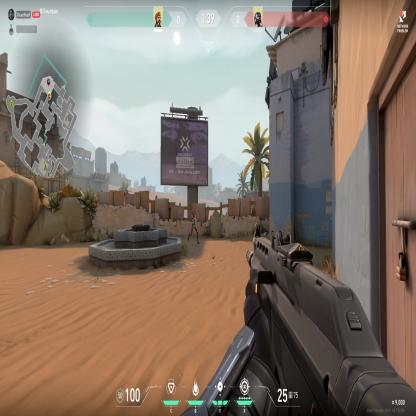enemy: (186, 209, 200, 244)
